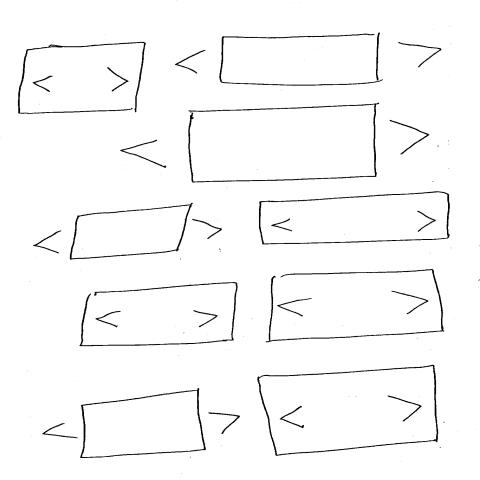Carousel: (129, 106, 431, 185), (258, 365, 442, 458), (171, 33, 446, 89), (41, 387, 244, 461), (266, 269, 446, 344), (32, 202, 225, 262), (259, 191, 453, 248), (79, 282, 240, 350), (16, 42, 149, 115)
